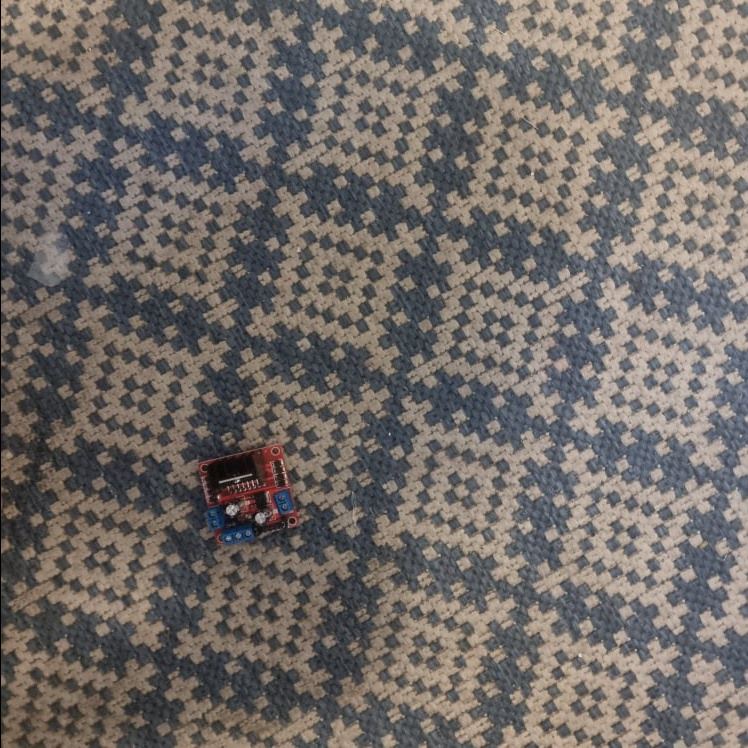MOTOR: (191, 445, 300, 547)
